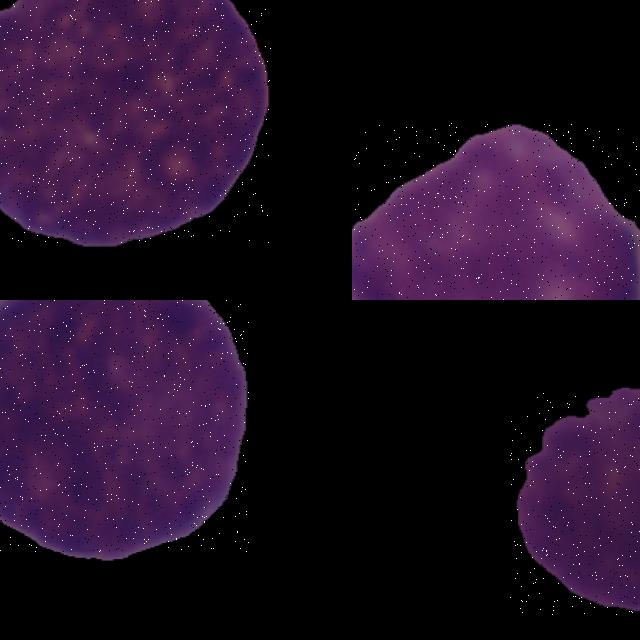ALL Negative Cells: (352, 123, 640, 300), (509, 394, 640, 615)
ALL Positive Cell: (0, 0, 270, 243), (0, 300, 248, 552)
